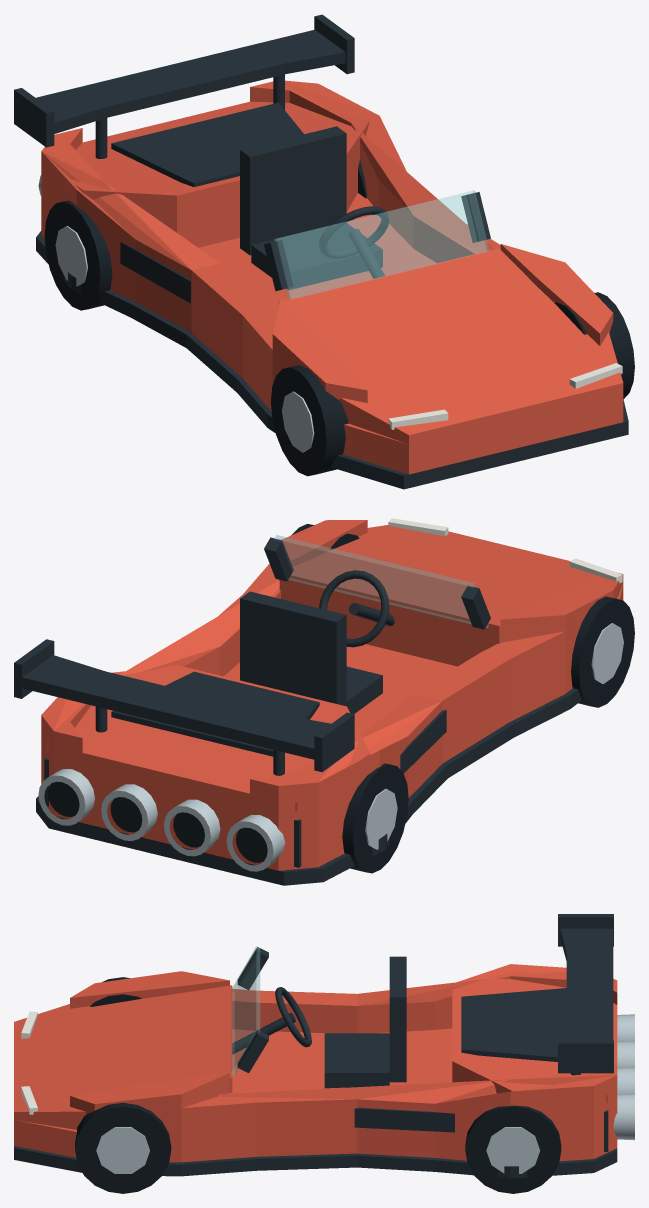
3 renders of one model, top to bottom at view 1: azimuth 30°, elevation 25°; view 2: azimuth 150°, elevation 25°; view 3: azimuth 270°, elevation 25°, orthographic. The views are drawn at different scales.
Visible parts, largest first — view 1: supercar-wedge-nose, supercar, supercar-waisted-body, supercar-sculpted-flank--1, supercar-rear-deck, supercar-rear-wing, seat-back, supercar-sculpted-flank-1, supercar-waisted-undertray, supercar-engine-cover, supercar-front-shoulder--1, seat-cushion (+2 smaller); view 2: supercar, supercar-wedge-nose, supercar-sculpted-flank--1, supercar-rear-deck, supercar-waisted-body, supercar-rear-wing, seat-back, supercar-exhaust (×4), supercar-waisted-undertray, supercar-sculpted-flank-1, supercar-engine-cover, supercar-front-shoulder--1 (+3 smaller); view 3: supercar, supercar-wedge-nose, supercar-waisted-body, supercar-sculpted-flank-1, supercar-sculpted-flank--1, supercar-engine-cover, supercar-waisted-undertray, supercar-rear-wing, supercar-rear-deck, supercar-front-shoulder-1, seat-cushion, supercar-front-shoulder--1 (+3 smaller).
Part boxes in pixels (left/top/right/bottom): supercar-wedge-nose: left=279, top=248, right=623, bottom=444; supercar: left=14, top=14, right=634, bottom=476; supercar-waisted-body: left=41, top=193, right=623, bottom=474; supercar-sculpted-flank--1: left=41, top=128, right=276, bottom=382; supercar-rear-deck: left=71, top=101, right=369, bottom=247; supercar-rear-wing: left=36, top=29, right=345, bottom=133; seat-back: left=240, top=126, right=346, bottom=255; supercar-sculpted-flank-1: left=250, top=80, right=500, bottom=263; supercar-waisted-undertray: left=36, top=231, right=628, bottom=489; supercar-engine-cover: left=111, top=102, right=303, bottom=186; supercar-front-shoulder--1: left=272, top=298, right=367, bottom=402; seat-cushion: left=251, top=223, right=382, bottom=289; supercar: left=14, top=518, right=634, bottom=873; supercar-wedge-nose: left=279, top=525, right=623, bottom=666; supercar-sculpted-flank--1: left=250, top=631, right=565, bottom=843; supercar-rear-deck: left=54, top=665, right=370, bottom=831; supercar-waisted-body: left=41, top=584, right=623, bottom=870; supercar-rear-wing: left=22, top=655, right=330, bottom=759; seat-back: left=240, top=591, right=346, bottom=706; supercar-exhaust (×4): left=38, top=769, right=285, bottom=871; supercar-waisted-undertray: left=36, top=688, right=581, bottom=885; supercar-sculpted-flank-1: left=41, top=564, right=280, bottom=787; supercar-engine-cover: left=111, top=671, right=319, bottom=756; supercar-front-shoulder--1: left=500, top=577, right=613, bottom=663; supercar: left=21, top=914, right=613, bottom=1193; supercar-wedge-nose: left=14, top=985, right=232, bottom=1129; supercar-waisted-body: left=14, top=1028, right=617, bottom=1162; supercar-sculpted-flank-1: left=181, top=1063, right=617, bottom=1139; supercar-sculpted-flank--1: left=232, top=964, right=617, bottom=1033; supercar-engine-cover: left=461, top=988, right=566, bottom=1061; supercar-waisted-undertray: left=14, top=1146, right=617, bottom=1178; supercar-rear-wing: left=560, top=928, right=613, bottom=1040; supercar-rear-deck: left=452, top=970, right=617, bottom=1093; supercar-front-shoulder-1: left=70, top=1072, right=229, bottom=1136; seat-cushion: left=324, top=1033, right=389, bottom=1088; supercar-front-shoulder--1: left=70, top=971, right=229, bottom=1008.
Size of the model in its own units: 2.4 by 1.29 by 4.78.
